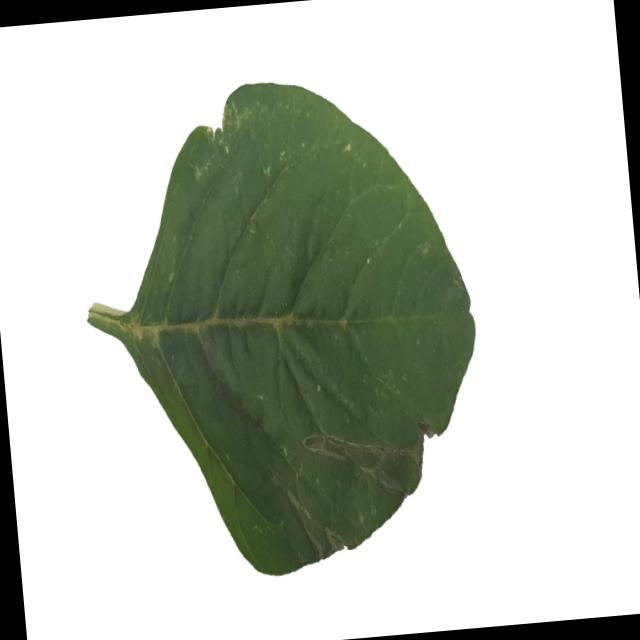Medicinal-Arive Dantu: (62, 64, 496, 592)
